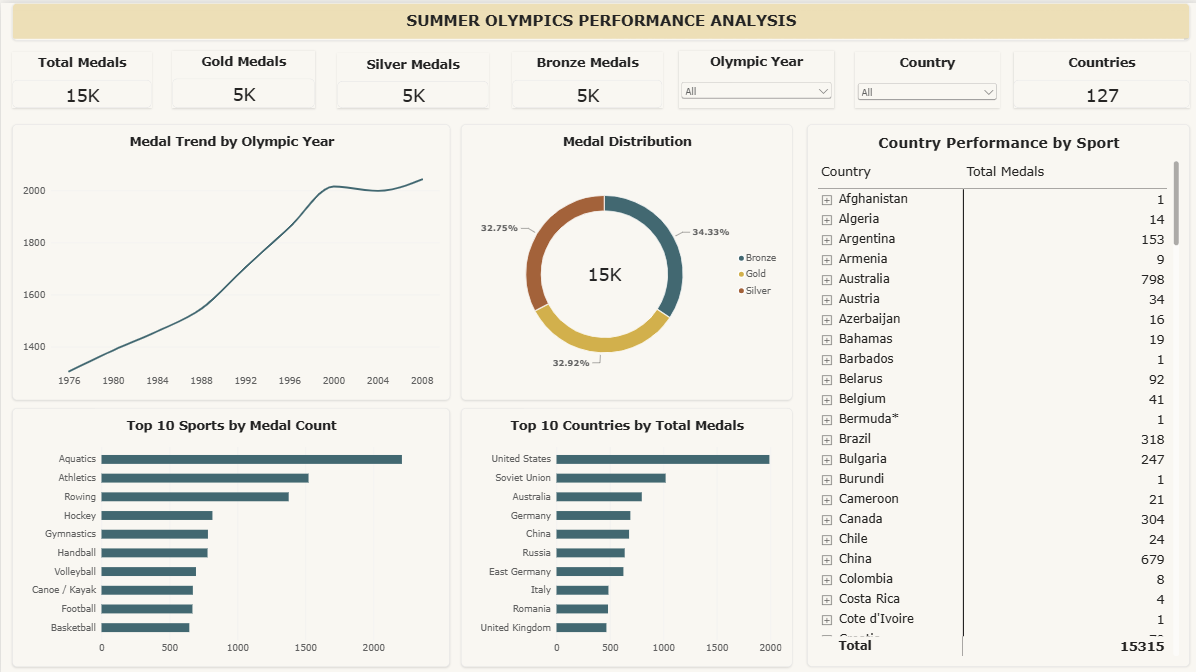

What the dashboard file says about the page in this screenshot:
{"tool":"powerbi","page":{"name":"Page 1","canvas":[1920,1080],"ordinal":0},"visuals":[{"type":"cardVisual","title":"Total Medals","fields":{"Data":["vw_Olympics_KPIs.Total Medals"]},"box":[17.4,78.5,223.3,90.7],"z":0},{"type":"cardVisual","title":"Gold Medals","fields":{"Data":["vw_Olympics_KPIs.Gold Medals"]},"box":[273.8,76.7,228.5,92.4],"z":1000},{"type":"cardVisual","title":"Silver Medals","fields":{"Data":["vw_Olympics_KPIs.Silver Medals"]},"box":[537.2,80.2,242.4,89],"z":2000},{"type":"cardVisual","title":"Countries","fields":{"Data":["vw_Olympics_KPIs.Total Countries"]},"box":[1620.4,78.5,282.6,90.7],"z":3000},{"type":"cardVisual","title":"Bronze Medals","fields":{"Data":["vw_Olympics_KPIs.Bronze Medals"]},"box":[818,78.5,240.7,90.7],"z":4000},{"type":"lineChart","title":"Medal Trend by Olympic Year","fields":{"Category":["vw_Medal_Trend.Year"],"Y":["Sum(vw_Medal_Trend.Total_Medals)"]},"box":[17.4,193.6,701.2,441.3],"z":5000},{"type":"clusteredBarChart","title":"Top 10 Countries by Total Medals","fields":{"Category":["vw_Country_Performance.Country"],"Y":["Sum(vw_Country_Performance.Total_Medals)"]},"box":[736,648,530,414],"z":6000},{"type":"donutChart","title":"Medal Distribution","fields":{"Category":["vw_Medal_Distribution.Medal"],"Y":["Sum(vw_Medal_Distribution.Medal_Count)"]},"box":[736,193.6,530.2,441.3],"z":7000},{"type":"clusteredBarChart","title":"Top 10 Sports by Medal Count","fields":{"Category":["vw_Sport_Performance.Sport"],"Y":["Sum(vw_Sport_Performance.Total_Medals)"]},"box":[18,648,700,414],"z":8000},{"type":"slicer","title":"Olympic Year","fields":{"Values":["vw_Dim_Year.Year"]},"box":[1084.9,76.7,249.4,92.4],"z":9000},{"type":"slicer","title":"Country","fields":{"Values":["vw_Dim_Country.Country"]},"box":[1365.7,78.5,232,90.7],"z":10000},{"type":"pivotTable","title":"Country Performance by Sport","fields":{"Rows":["vw_Country_Sport.Country","vw_Country_Sport.Sport"],"Values":["Sum(vw_Country_Sport.Total_Medals)"]},"box":[1290,194,612,868],"z":11000},{"type":"textbox","title":"SUMMER OLYMPICS PERFORMANCE ANALYSIS","box":[18,0,1884,60],"z":12000}]}

Visuals, with their boxes in screenshot pixels (x1, y1, x2, y2), scaled from the page's 1920x1080 canvas onto the 1196x672 screenshot:
"Total Medals" cardVisual: 11/49/150/105
"Gold Medals" cardVisual: 171/48/313/105
"Silver Medals" cardVisual: 335/50/486/105
"Countries" cardVisual: 1009/49/1185/105
"Bronze Medals" cardVisual: 510/49/659/105
"Medal Trend by Olympic Year" lineChart: 11/120/448/395
"Top 10 Countries by Total Medals" clusteredBarChart: 458/403/789/661
"Medal Distribution" donutChart: 458/120/789/395
"Top 10 Sports by Medal Count" clusteredBarChart: 11/403/447/661
"Olympic Year" slicer: 676/48/831/105
"Country" slicer: 851/49/995/105
"Country Performance by Sport" pivotTable: 804/121/1185/661
"SUMMER OLYMPICS PERFORMANCE ANALYSIS" textbox: 11/0/1185/37
